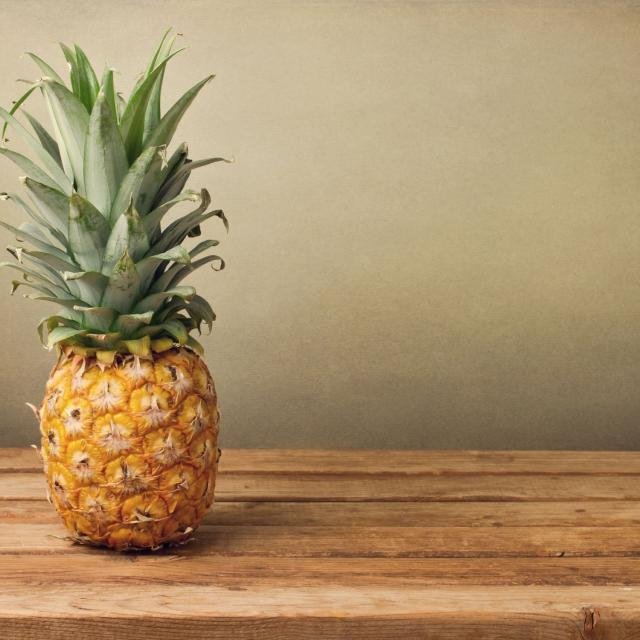pineapple: (36, 42, 222, 552)
